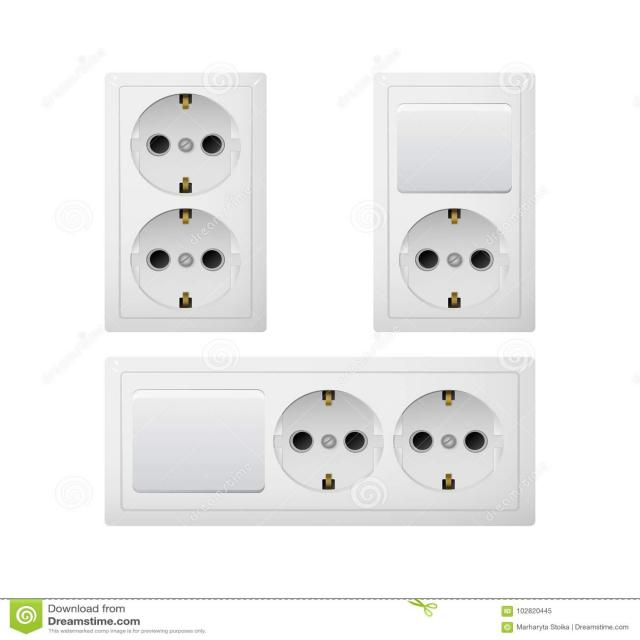typeb: (86, 347, 556, 539), (85, 60, 279, 348), (359, 62, 557, 340)
